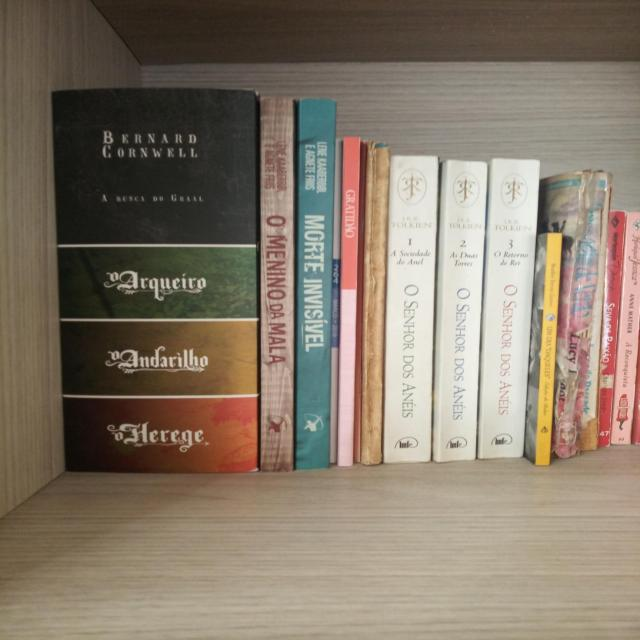book: (61, 95, 250, 468), (391, 156, 427, 458), (492, 163, 527, 458), (304, 98, 328, 467), (262, 100, 286, 468), (618, 213, 640, 440), (338, 137, 353, 468), (537, 231, 550, 461), (330, 139, 337, 463)
